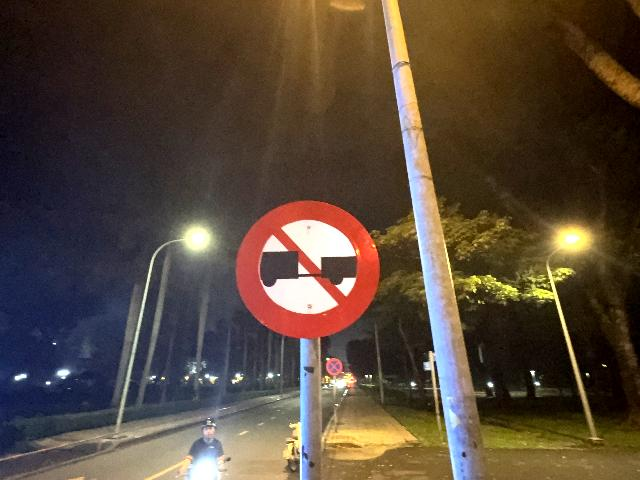cam-xe-somi-romooc: (237, 201, 379, 338)
